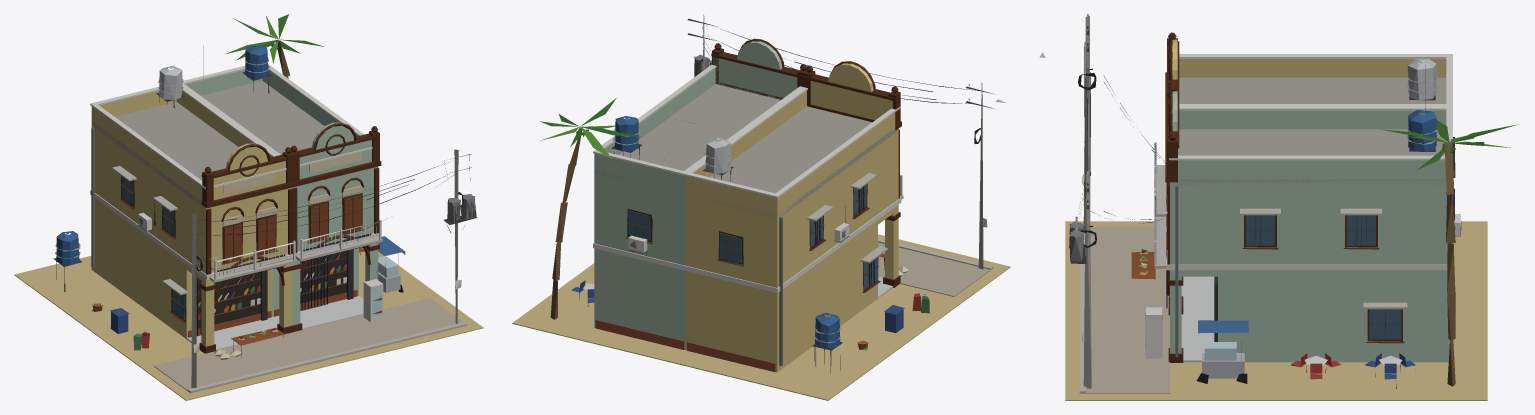
File: shop_2.glb
The picture shows the model from 3 angles, left to right: view 1: azimuth 30°, elevation 25°; view 2: azimuth 150°, elevation 25°; view 3: azimuth 270°, elevation 25°; orthographic projection. The views are drawn at different scales.
Visible parts, largest first — view 1: body, windows; view 2: body, windows; view 3: body, windows.
Boxes of the visible parts, x1,y1,x2,y2 form: body: [14, 14, 483, 400]; windows: [121, 176, 361, 328]; body: [512, 15, 1010, 400]; windows: [628, 184, 878, 289]; body: [1039, 14, 1518, 400]; windows: [1217, 137, 1453, 341].
Bounding box in the file's own units: 15.9 × 10.99 × 18.12.
